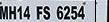character: (8, 5, 16, 20), (22, 5, 30, 20), (42, 5, 50, 20), (77, 5, 85, 19), (1, 5, 8, 20), (16, 5, 23, 20), (56, 5, 63, 20), (63, 5, 70, 20), (35, 5, 42, 19), (70, 5, 77, 19)
